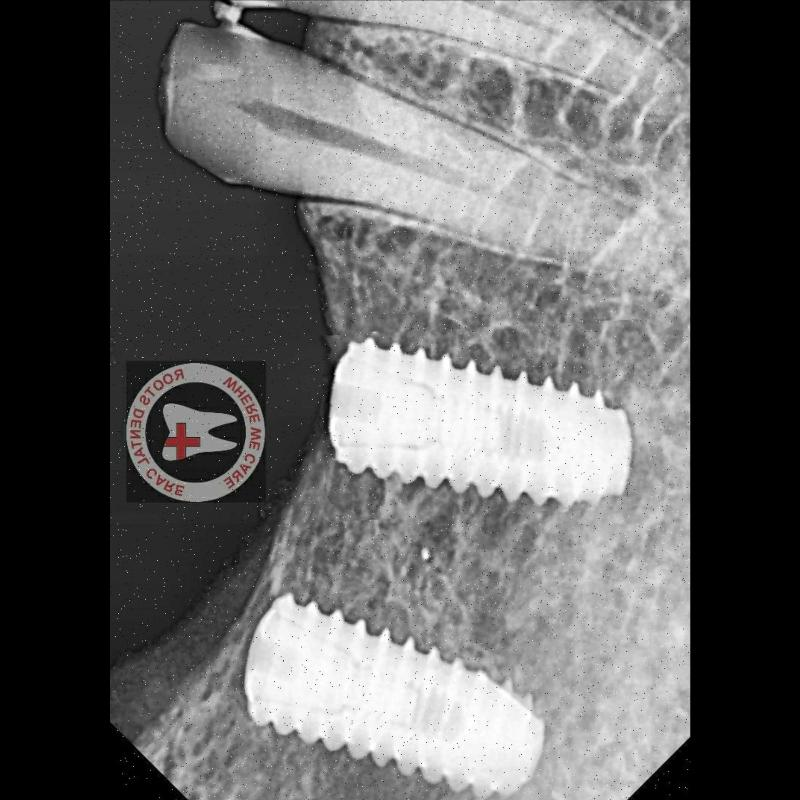osstem: (239, 586, 551, 800), (321, 323, 649, 517)
